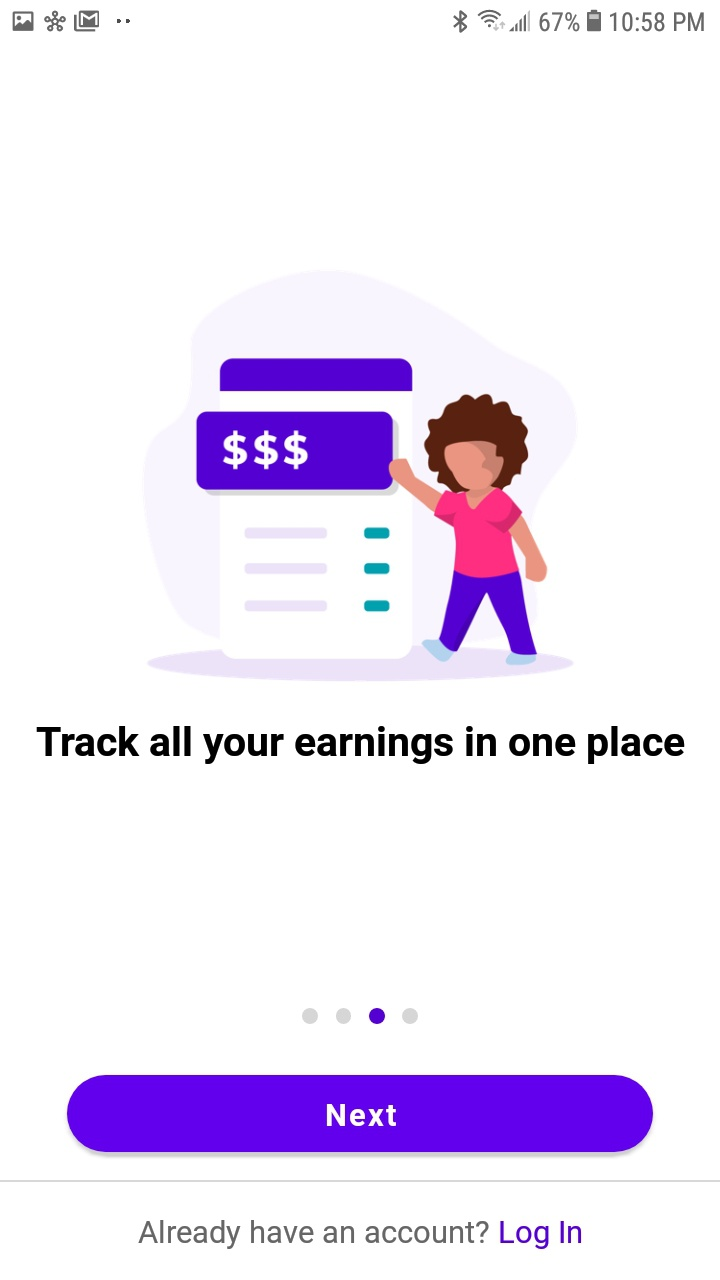Image: (144, 270, 579, 682)
PageIndicator: (302, 1007, 419, 1025)
Text: (36, 725, 685, 765), (138, 1219, 582, 1250)
TextButton: (67, 1075, 654, 1153)
UpperTaskBar: (1, 1, 720, 35)
